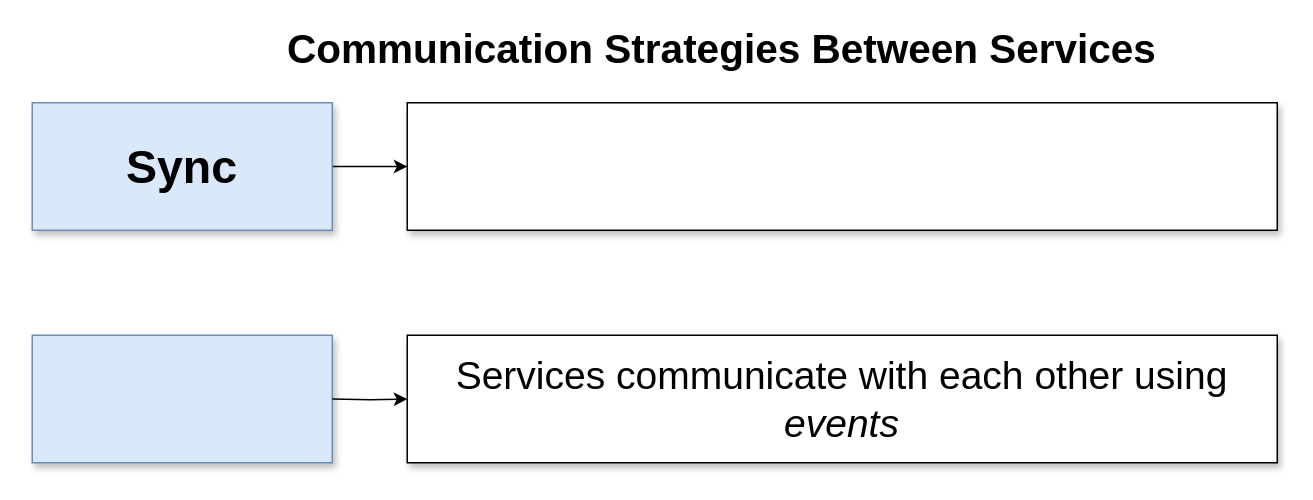
This 1313x500 diagram has some shape labels left out. The centre of each missing label's shape, as x and y in pixels:
Async: point 183,400
Services communicate with each other using direct requests: point 843,168
